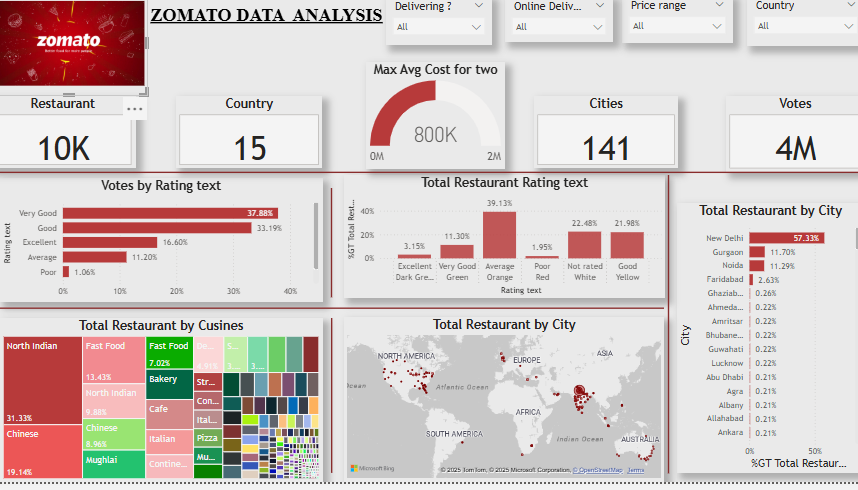

Layout of this report page (visuals, bound fields, positions):
{"tool":"powerbi","page":{"name":"Page 1","canvas":[1280,720],"ordinal":0},"visuals":[{"type":"slicer","fields":{"Values":["zomato.Country names"]},"box":[1108.3,6.7,171.7,75],"z":0},{"type":"slicer","fields":{"Values":["zomato.Price range"]},"box":[925,6.7,161.7,70],"z":1000},{"type":"slicer","fields":{"Values":["zomato.Has Online delivery"]},"box":[753.3,8.3,158.3,66.7],"z":2000},{"type":"slicer","fields":{"Values":["zomato.Is delivering now"]},"box":[580,8.3,155,71.7],"z":3000},{"type":"cardVisual","title":"Restaurant","fields":{"Data":["zomato.Total Restaurant"]},"box":[0,126.7,213.3,135],"z":4000},{"type":"cardVisual","title":"Country","fields":{"Data":["zomato.Total country"]},"box":[271.7,126.7,215,135],"z":5000},{"type":"cardVisual","title":"Cities","fields":{"Data":["zomato.Total Cities"]},"box":[795,121.7,211.7,140],"z":6000},{"type":"cardVisual","title":"Votes","fields":{"Data":["Sum(zomato.Votes)"]},"box":[1076.7,126.7,203.3,140],"z":7000},{"type":"clusteredBarChart","title":" Total Restaurant by City","fields":{"Category":["zomato.City"],"Y":["zomato.Total Restaurant"]},"box":[1005.9,311.8,274.1,395.5],"z":8000},{"type":"treemap","title":"Total Restaurant by Cusines","fields":{"Group":["zomato.Cusines"],"Values":["zomato.Total Restaurant"]},"box":[15,480,471.7,240],"z":9000},{"type":"map","fields":{"Category":["zomato.City"],"Size":["zomato.Total Restaurant"]},"box":[518.6,479.2,469.3,241.2],"z":10000},{"type":"columnChart","title":"Total Restaurant Rating text","fields":{"Category":["zomato.Rating color","zomato.Rating text"],"Y":["zomato.Total Restaurant"]},"box":[518.3,270,470,180],"z":11000},{"type":"barChart","title":" Votes by Rating text","fields":{"Category":["zomato.Rating text"],"Y":["Sum(zomato.Votes)"]},"box":[15,275,471.7,181.7],"z":12000},{"type":"gauge","title":"Max Avg Cost for two","fields":{"Y":["Max(zomato.Average Cost for two)"]},"box":[550,105,203.3,156.7],"z":13000},{"type":"textbox","box":[230,8.3,350,96.7],"z":14000},{"type":"image","box":[0,0,133.3,126.7],"z":15000},{"type":"shape","box":[0,246.7,1280,56.7],"z":16000},{"type":"shape","box":[13.3,361.7,973.3,208.3],"z":17000},{"type":"shape","box":[360,480,280,226.7],"z":18000},{"type":"shape","box":[350,290,300,160],"z":19000},{"type":"shape","box":[843.3,270,300,436.7],"z":20000},{"type":"image","box":[0,0,230,121.7],"z":21000}]}

Visuals, with their boxes in screenshot pixels (x1, y1, x2, y2), scaled from the page's 1280x720 canvas onto the 858x490 screenshot:
slicer - zomato.Country names: left=743, top=5, right=857, bottom=56
slicer - zomato.Price range: left=620, top=5, right=728, bottom=52
slicer - zomato.Has Online delivery: left=505, top=6, right=611, bottom=51
slicer - zomato.Is delivering now: left=389, top=6, right=493, bottom=54
"Restaurant" cardVisual: left=0, top=86, right=143, bottom=178
"Country" cardVisual: left=182, top=86, right=326, bottom=178
"Cities" cardVisual: left=533, top=83, right=675, bottom=178
"Votes" cardVisual: left=722, top=86, right=857, bottom=182
" Total Restaurant by City" clusteredBarChart: left=674, top=212, right=857, bottom=481
"Total Restaurant by Cusines" treemap: left=10, top=327, right=326, bottom=489
map - zomato.City x zomato.Total Restaurant: left=348, top=326, right=662, bottom=489
"Total Restaurant Rating text" columnChart: left=347, top=184, right=662, bottom=306
" Votes by Rating text" barChart: left=10, top=187, right=326, bottom=311
"Max Avg Cost for two" gauge: left=369, top=71, right=505, bottom=178
textbox: left=154, top=6, right=389, bottom=71
image: left=0, top=0, right=89, bottom=86
shape: left=0, top=168, right=857, bottom=206
shape: left=9, top=246, right=661, bottom=388
shape: left=241, top=327, right=429, bottom=481
shape: left=235, top=197, right=436, bottom=306
shape: left=565, top=184, right=766, bottom=481
image: left=0, top=0, right=154, bottom=83
